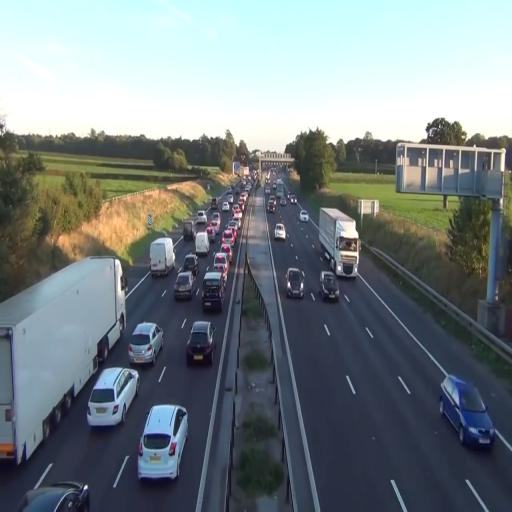vehicle: (0, 254, 127, 468), (0, 254, 127, 466), (439, 374, 495, 450), (137, 403, 189, 481), (86, 365, 140, 428), (18, 465, 90, 511), (318, 206, 360, 278), (18, 480, 92, 512), (128, 321, 164, 365), (186, 320, 214, 366), (149, 235, 175, 278), (149, 236, 175, 278), (201, 269, 223, 315), (285, 267, 305, 299), (174, 271, 195, 301), (320, 270, 339, 302), (214, 250, 230, 278), (274, 220, 287, 242), (300, 210, 308, 222)
